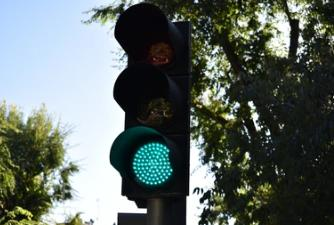green_light: (110, 3, 192, 196)
